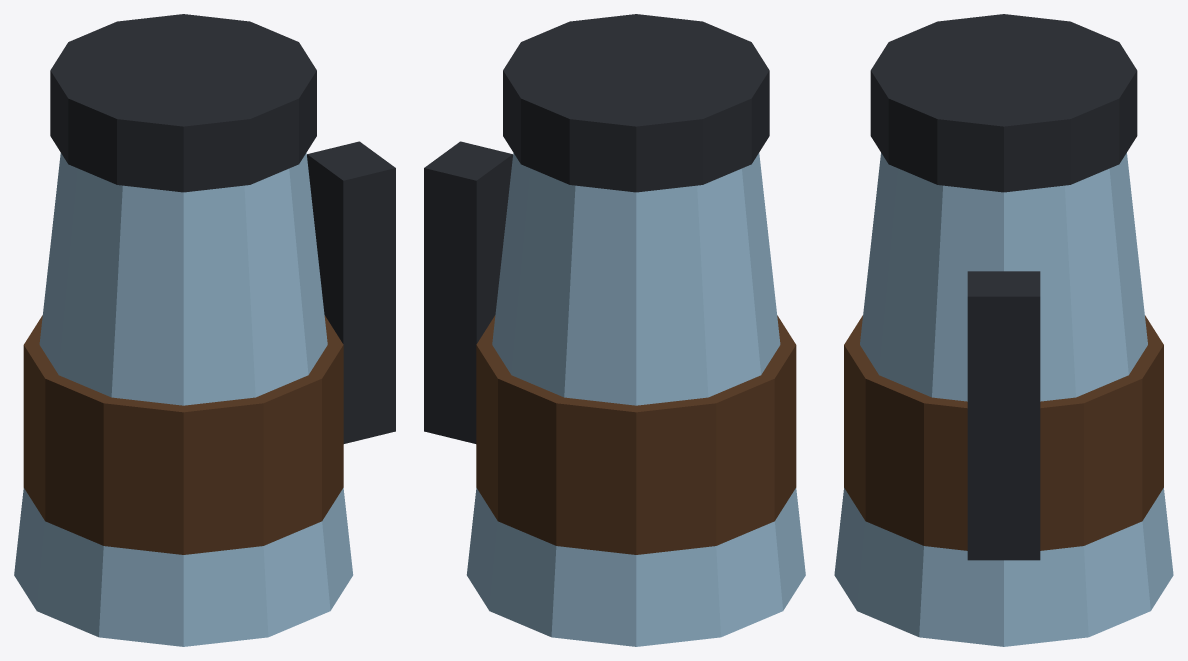
File: prop_coffee_p0.glb
3 views of the same model, side by side, from view 1: azimuth 30°, elevation 25°; view 2: azimuth 150°, elevation 25°; view 3: azimuth 270°, elevation 25° (orthographic).
Visible parts, largest first — view 1: prop_coffee_p0_mesh; view 2: prop_coffee_p0_mesh; view 3: prop_coffee_p0_mesh.
Part boxes in pixels (left/top/right/bottom): prop_coffee_p0_mesh: left=14, top=14, right=395, bottom=646; prop_coffee_p0_mesh: left=424, top=14, right=805, bottom=646; prop_coffee_p0_mesh: left=834, top=14, right=1173, bottom=646.
Bounding box in the file's own units: 0.1625 × 0.23 × 0.14.
